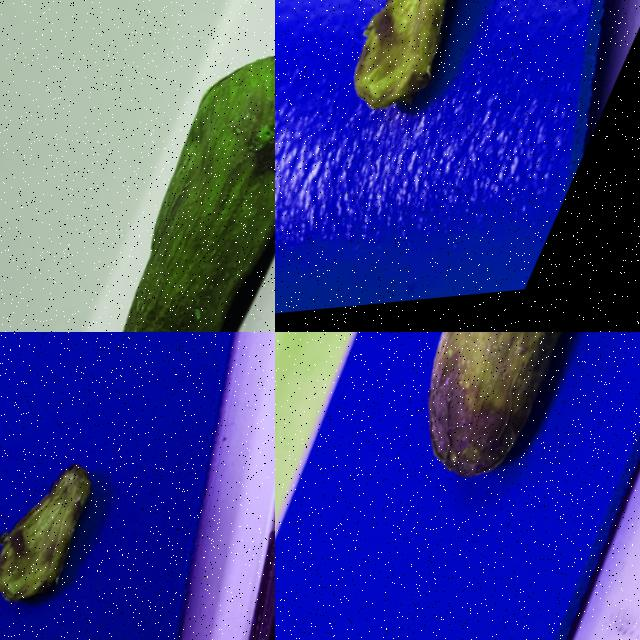Fine_cocoabeans: (318, 332, 639, 597), (47, 2, 274, 331)
Flat_cocoabeans: (275, 0, 615, 228), (0, 392, 191, 639)
